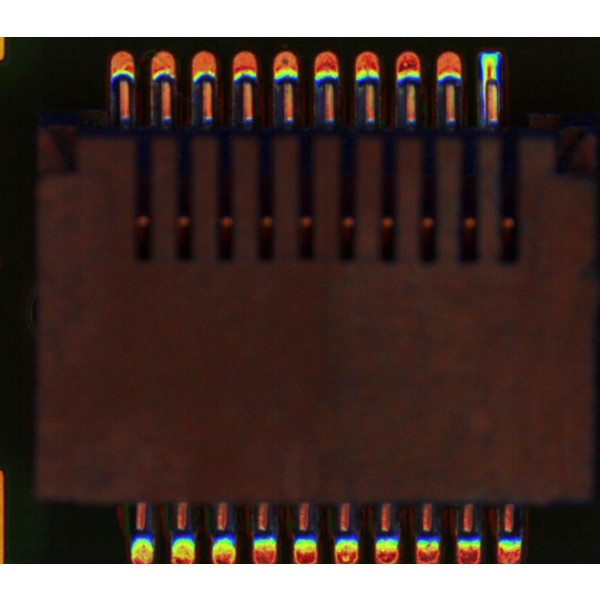Bad_qiaojiao: (481, 82, 487, 122)
